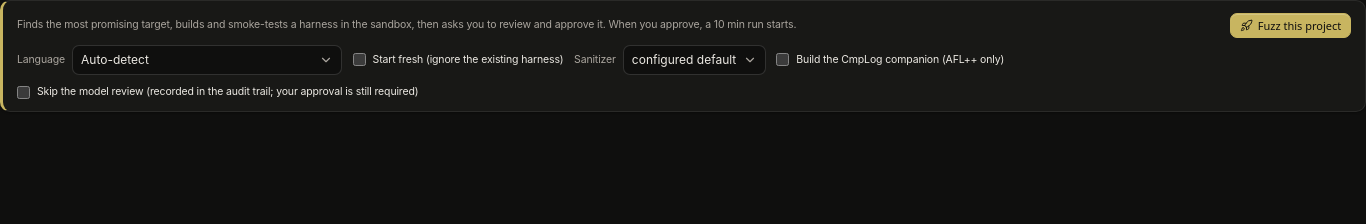
Test: keeps the steps and opens the build log when preparation fails
Click the button "Fuzz this project" at (1290, 25), box [1230,13,1351,38]
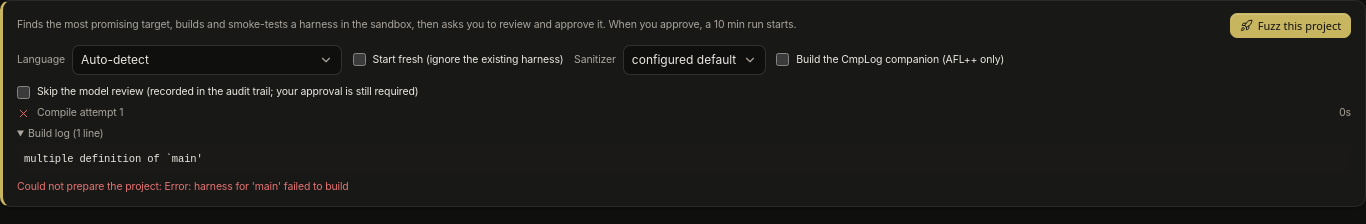
Now the text "multiple definition of `main'" is shown, box [17,144,1351,172]
Now the text "failed to build" is shown, box [17,180,349,192]
